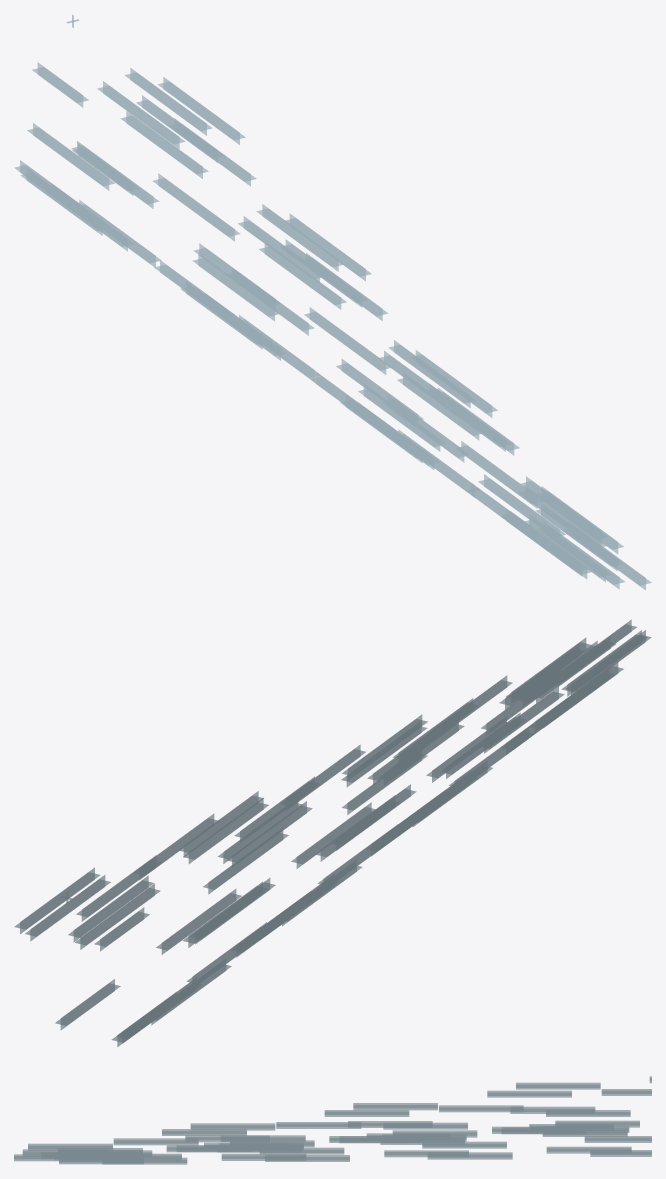
File: wp_water_320.obj
3 views of the same model, one above another, from view 1: azimuth 30°, elevation 25°; view 2: azimuth 150°, elevation 25°; view 3: azimuth 270°, elevation 25° (orthographic). The views are drawn at different scales.
Size of the model in its own units: 0.3024 by 0.2919 by 1.8.
1 material, 1 textured.
